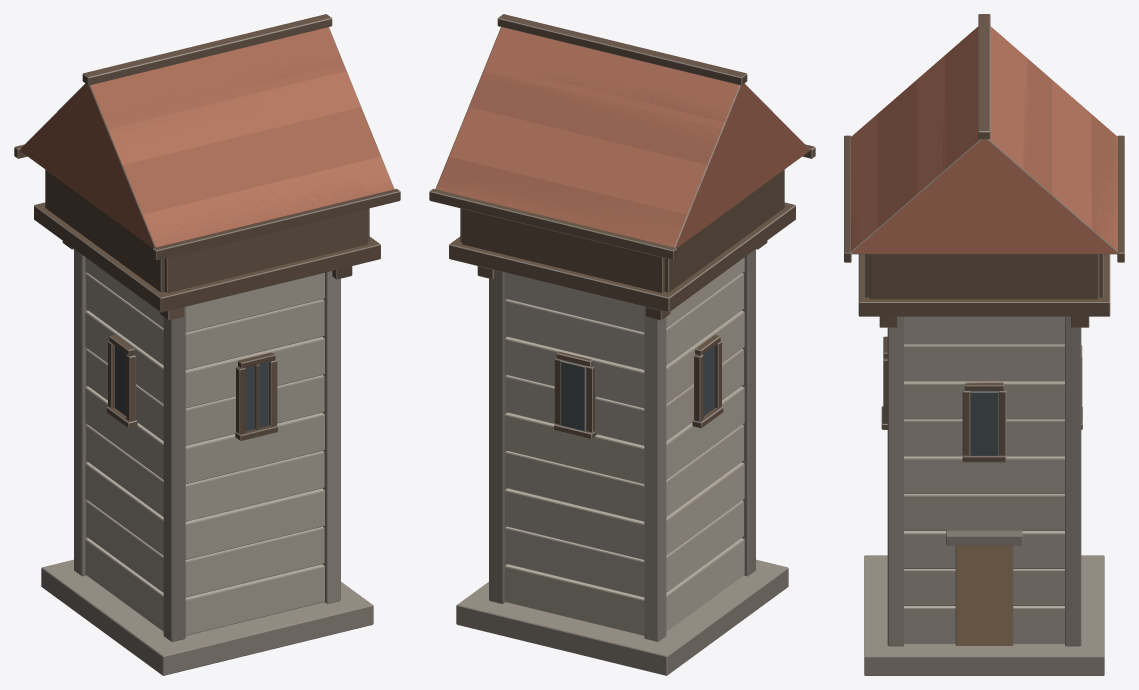
File: SM_Kit_torre.fbx
The picture shows the model from 3 angles, left to right: view 1: azimuth 30°, elevation 25°; view 2: azimuth 150°, elevation 25°; view 3: azimuth 270°, elevation 25°; orthographic projection.
Parts seen in each view (by area): view 1: SM_Kit_torre; view 2: SM_Kit_torre; view 3: SM_Kit_torre.
Boxes of the visible parts, left/top/right/bottom form: SM_Kit_torre: left=14, top=14, right=400, bottom=675; SM_Kit_torre: left=429, top=14, right=815, bottom=675; SM_Kit_torre: left=844, top=14, right=1124, bottom=675.
Size of what is drawn, in the model's own units: 510 by 1117 by 514.
